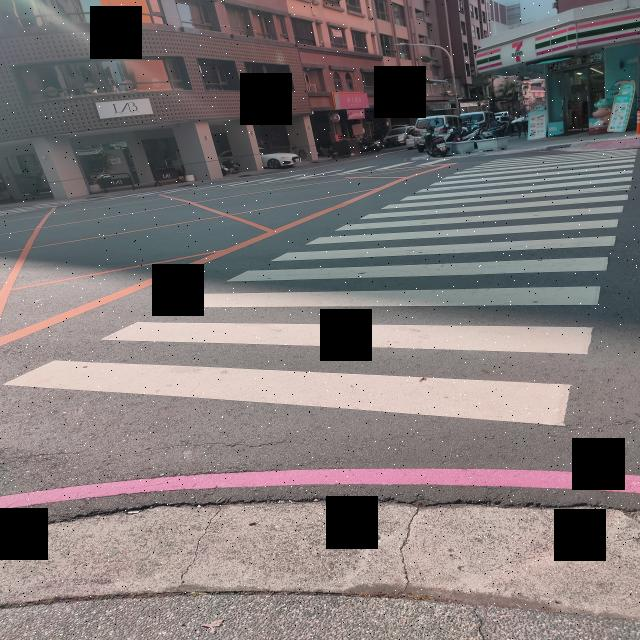zebra crossing: (1, 150, 640, 425), (111, 157, 454, 200)
